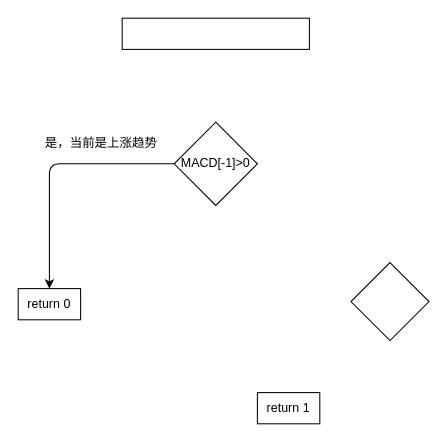
This 447x442 diagram has some shape labels left out. Each missing label, with the centre of its shape:
曲线: the point at 215,33
最后15min的MACD的最大值是否超过mu+3sigma: the point at 389,301
